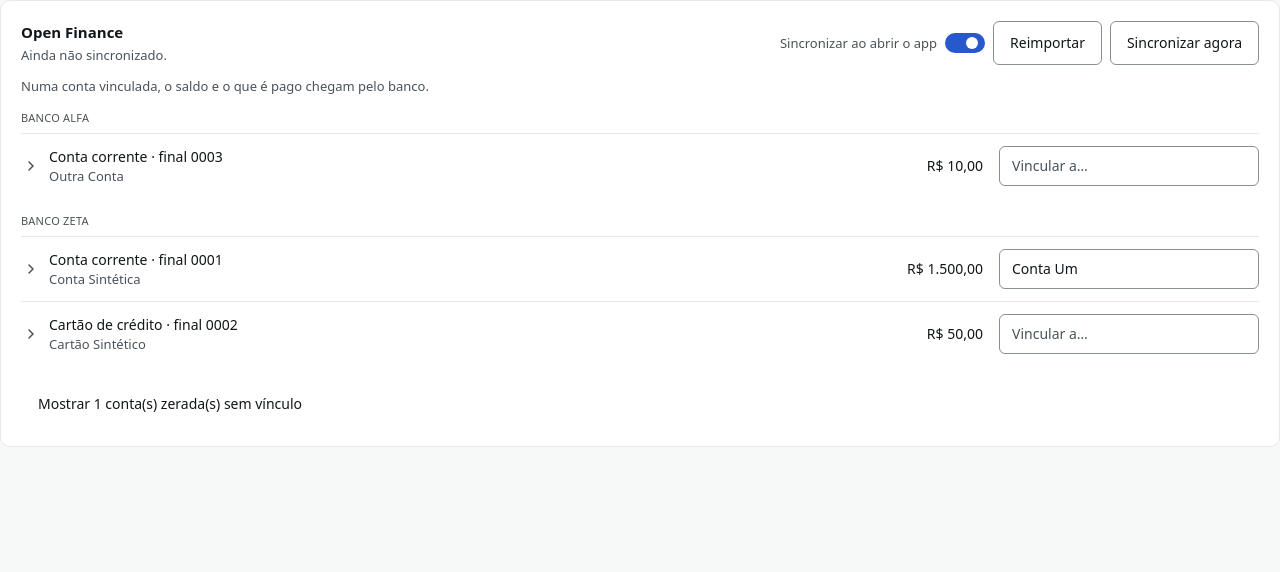
Test: OpenFinanceLinksCard › expandir a conta mostra os movimentos do mês e o que cada um virou no Bigorna
The image size is (1280, 572).
Step 1. Click the button "Conta corrente · final 0001 Conta Sintética" → (98, 260), box x1=21 y1=250 x2=891 y2=288
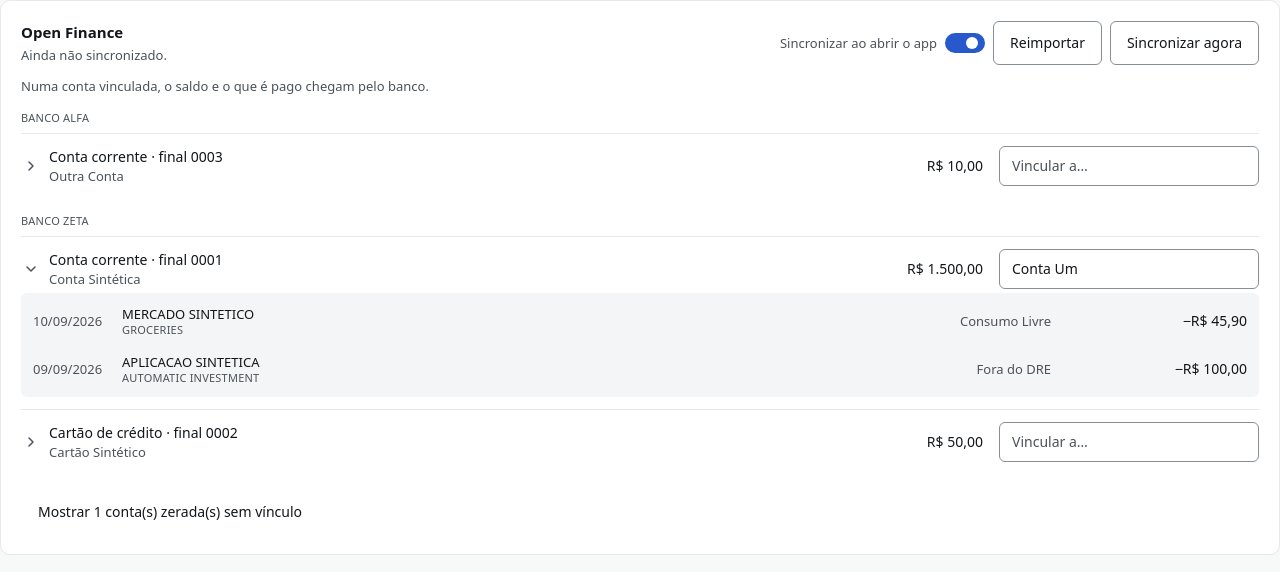
expect the text "MERCADO SINTETICO" is shown: met, box x1=122 y1=305 x2=254 y2=323
expect the text "Consumo Livre" is shown: met, box x1=960 y1=312 x2=1051 y2=330
expect the text "Fora do DRE" is shown: met, box x1=976 y1=360 x2=1051 y2=378
